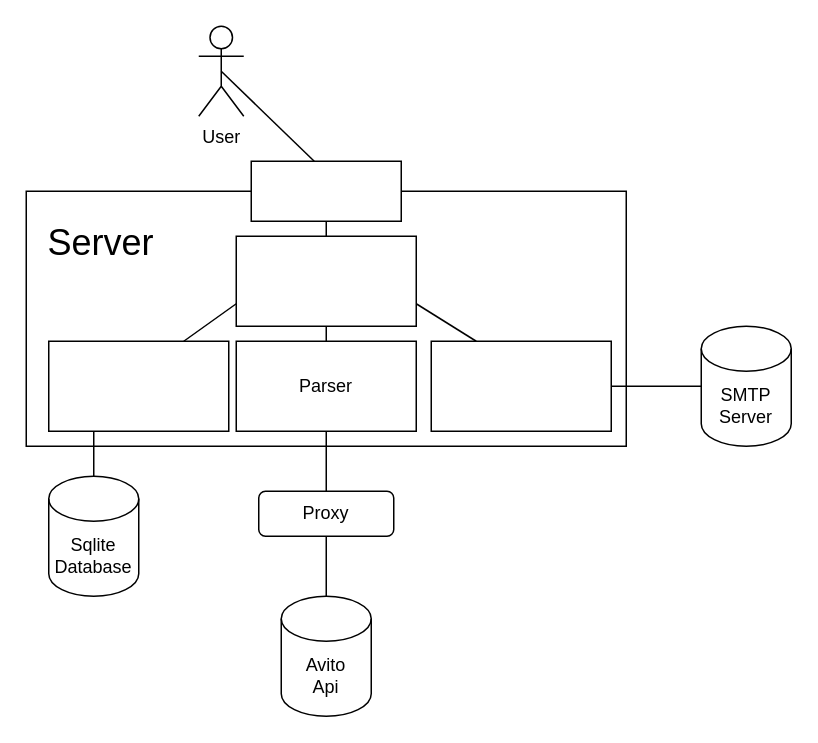
Image size: 818x743. Some labels were removed from this diagram. Here are the shapes that lost their labels. From the top down, the centre of each, then its label:
At pixel 325 190: "HTTP Interface".
At pixel 325 280: "Update handler".
At pixel 138 385: "Database manager".
At pixel 520 385: "Notifier".
